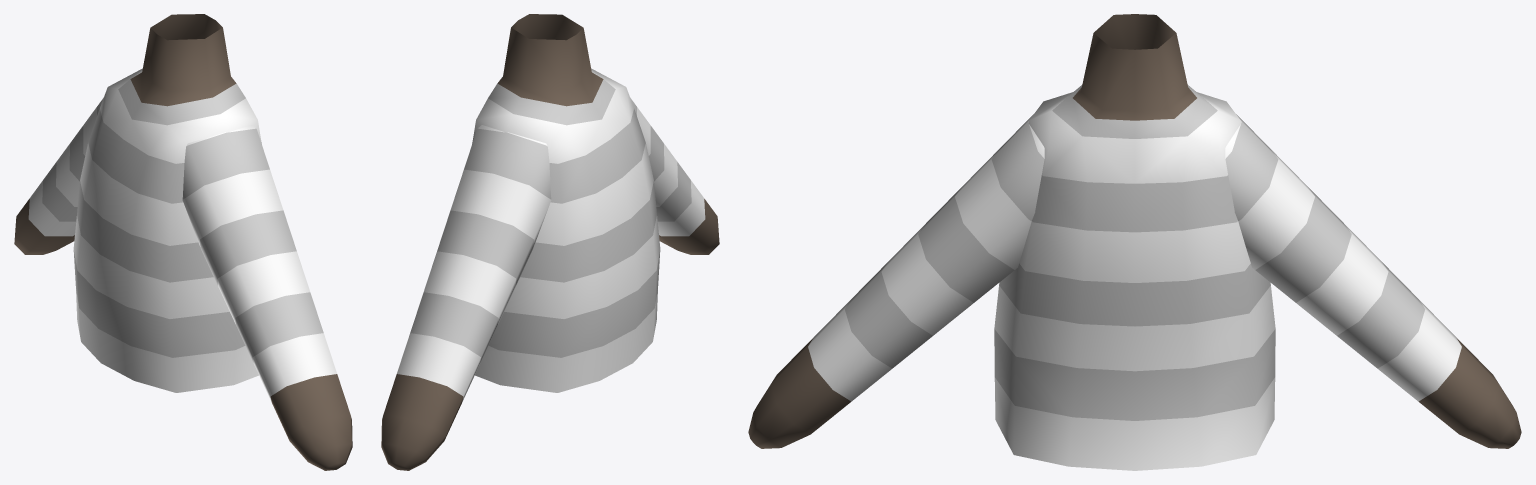
Rendered from striped_sweater.fbx.
3 renders of one model, left to right at view 1: azimuth 30°, elevation 25°; view 2: azimuth 150°, elevation 25°; view 3: azimuth 270°, elevation 25°, orthographic. The views are drawn at different scales.
Parts seen in each view (by area): view 1: Cube.003; view 2: Cube.003; view 3: Cube.003.
Part boxes in pixels (x1,y1,x2,y2): Cube.003: (14,14,352,470); Cube.003: (381,14,719,470); Cube.003: (748,14,1521,470).
Size of the model in its own units: 108 by 209 by 351.
